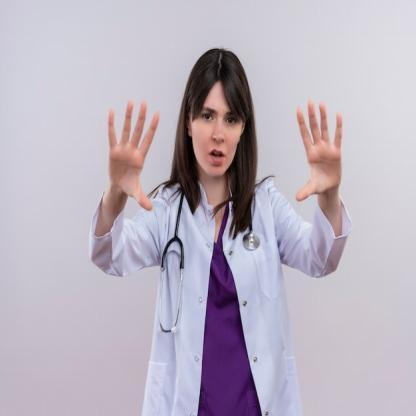stop: (294, 96, 349, 207), (107, 100, 161, 212)
